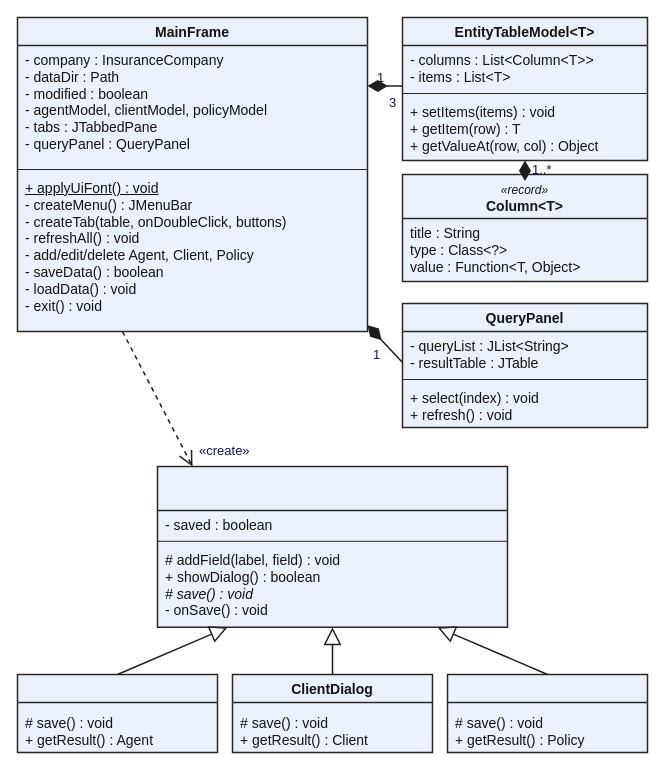
Image size: 666x773. Some labels were removed from this diagram. Each missing label, with the box of its shape:
AgentDialog: (16, 673, 218, 753)
PolicyDialog: (446, 673, 648, 753)
«abstract» EntityDialog: (156, 465, 508, 628)
